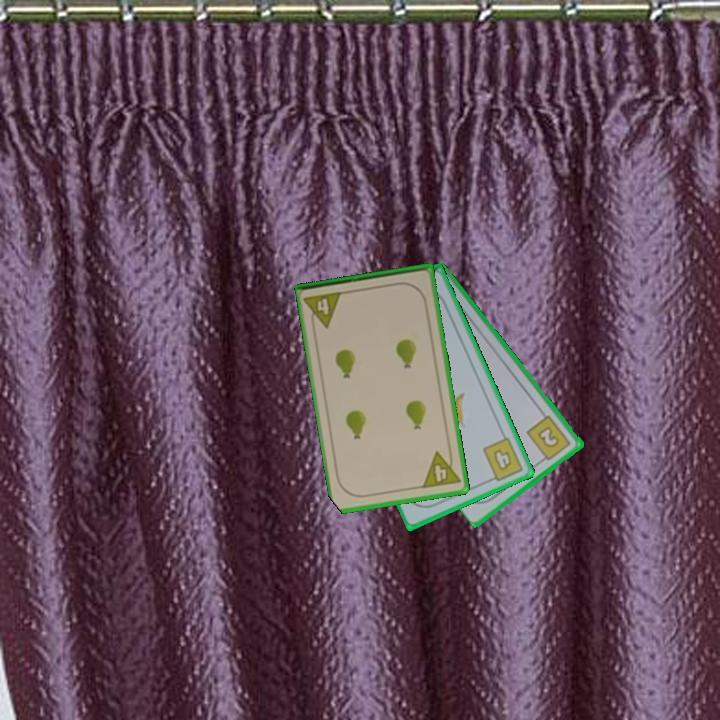2b: (523, 412, 574, 465)
4b: (479, 434, 527, 485)
4p: (419, 446, 463, 491), (301, 288, 346, 332)
